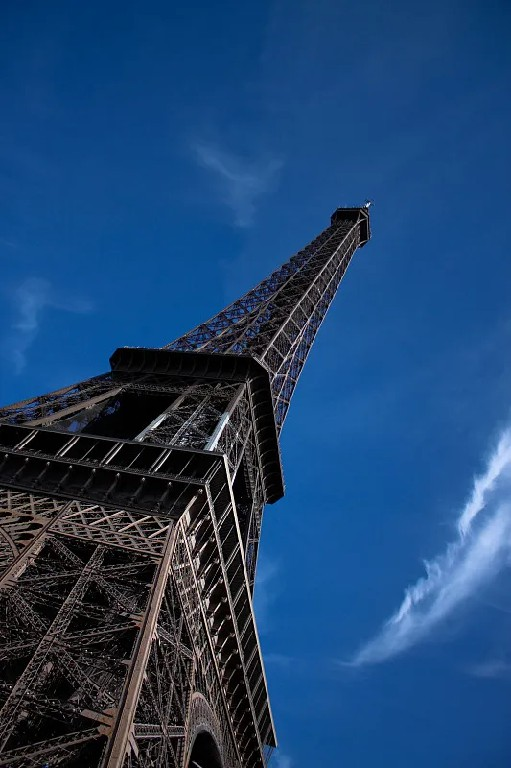Eiffel: (1, 197, 374, 768)
